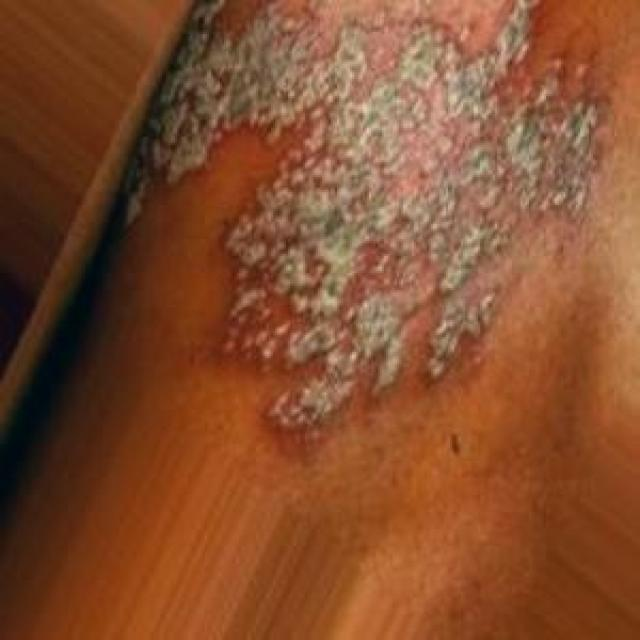Shingles: (112, 0, 605, 438)
